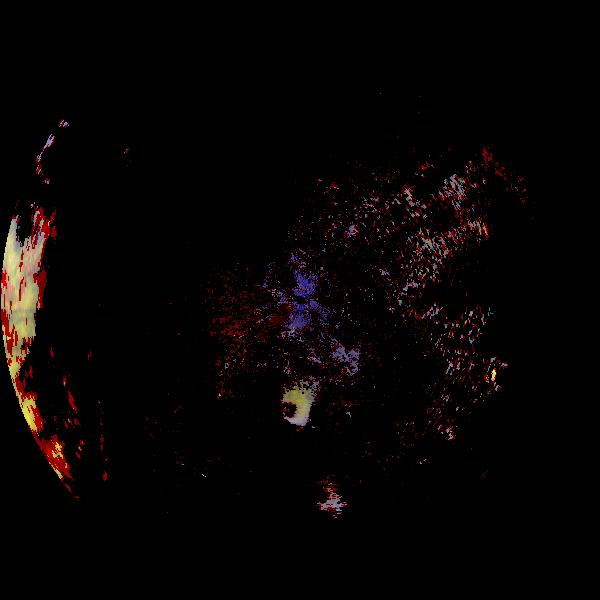roost: (270, 390, 312, 432), (305, 479, 341, 515)
